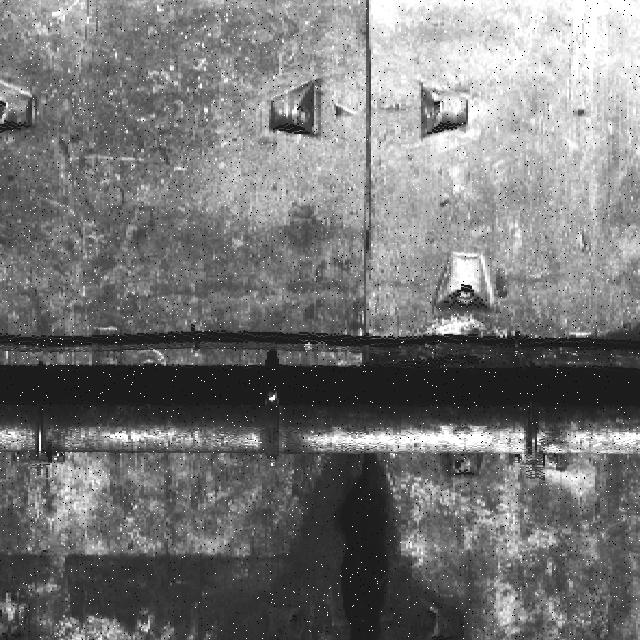leakage: (210, 441, 475, 639)
